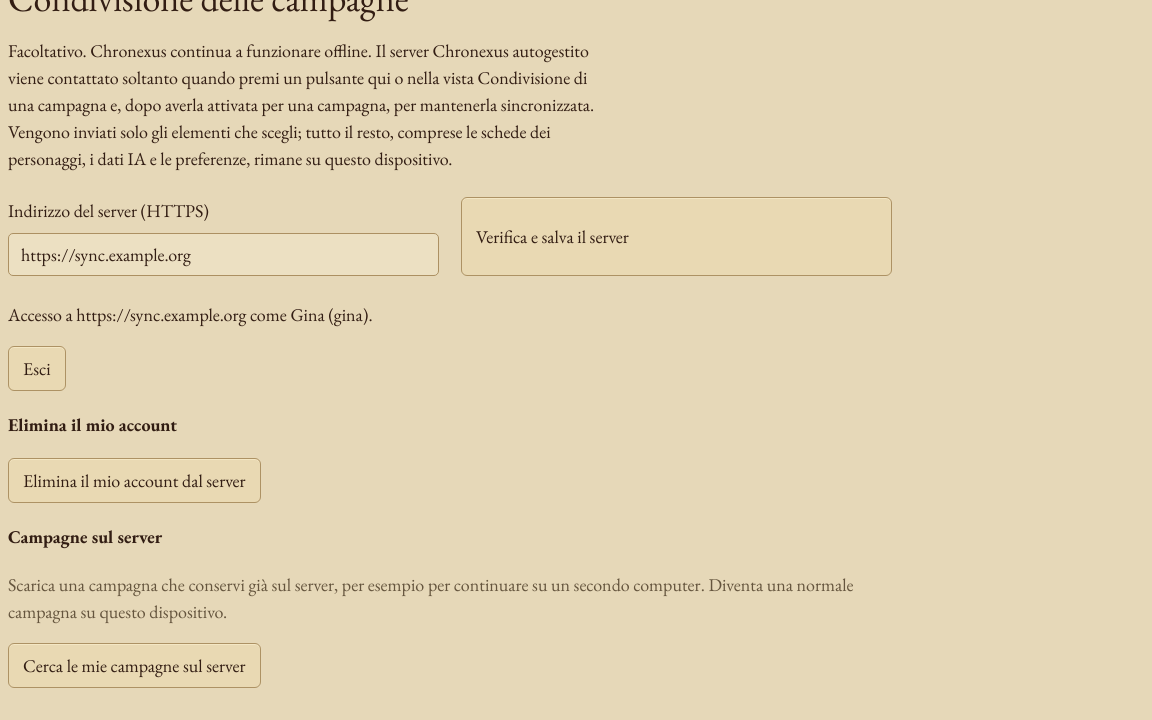
it: Italian account deletion confirmation is localized without changing account data
The image size is (1152, 720).
(page scrolled)
Expected: the heading "Campagne sul server" is shown, [8, 525, 162, 548]
Click the button "Elimina il mio account dal server": (134, 481) [8, 458, 261, 503]
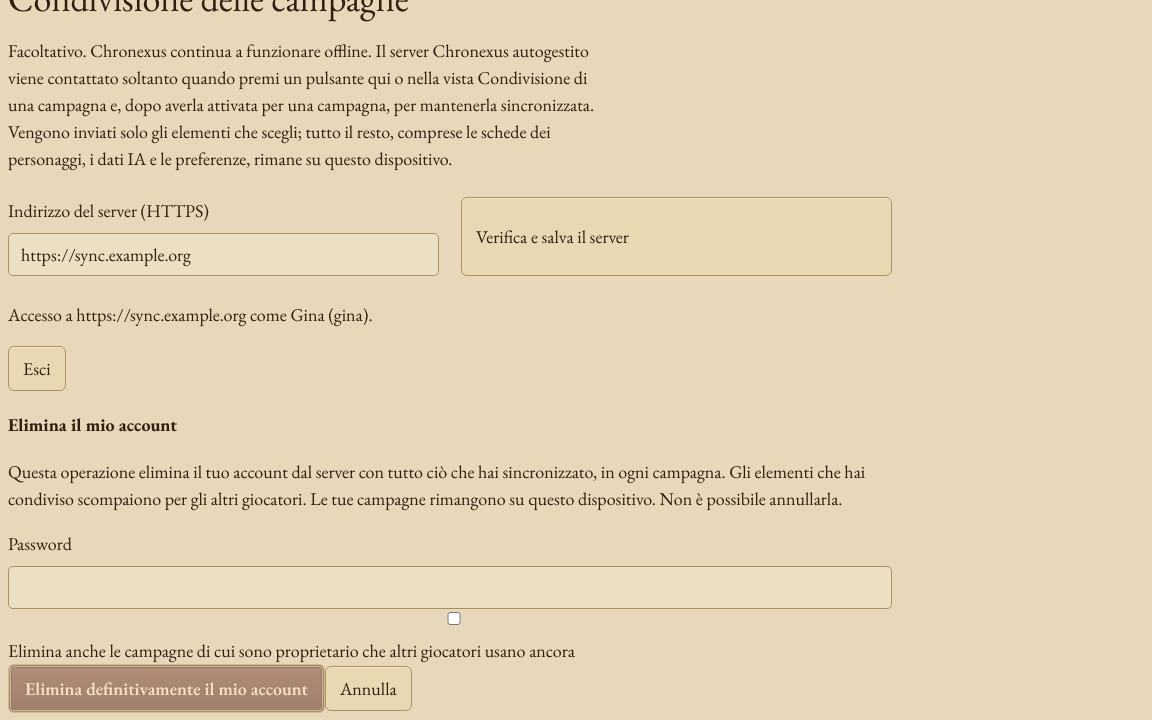
Expected: the text "Le tue campagne rimangono su questo dispositivo" is shown, [8, 460, 865, 510]
Expected: the button "Elimina definitivamente il mio account" is shown, [8, 664, 325, 713]
